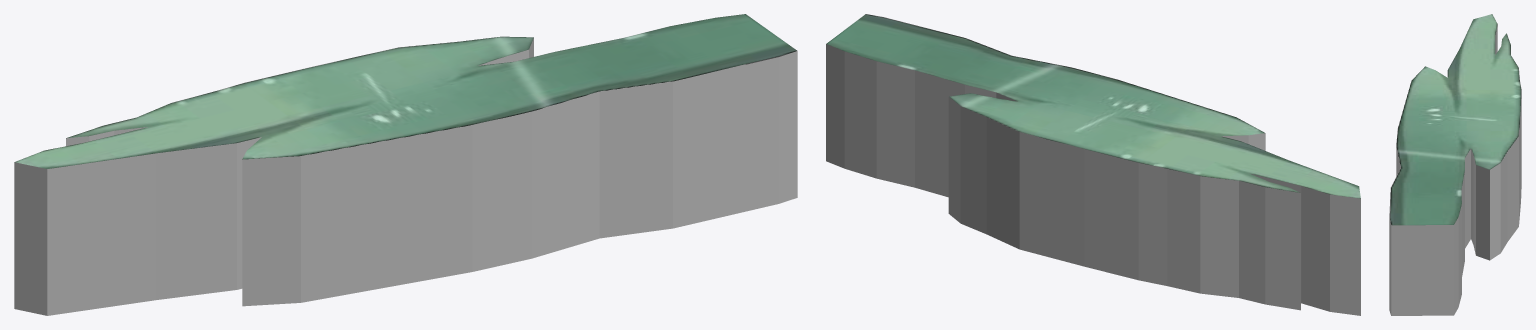
Rendered from lilypad.fbx.
3 renders of one model, left to right at view 1: azimuth 30°, elevation 25°; view 2: azimuth 150°, elevation 25°; view 3: azimuth 270°, elevation 25°, orthographic. The views are drawn at different scales.
Parts seen in each view (by area): view 1: Curve; view 2: Curve; view 3: Curve.
Part boxes in pixels (bbox=[...]): Curve: bbox=[14, 14, 797, 315]; Curve: bbox=[826, 14, 1360, 315]; Curve: bbox=[1389, 14, 1521, 315].
Bounding box in the file's own units: 100 × 20 × 26.51.
Materials: 2 (1 with a texture image).
